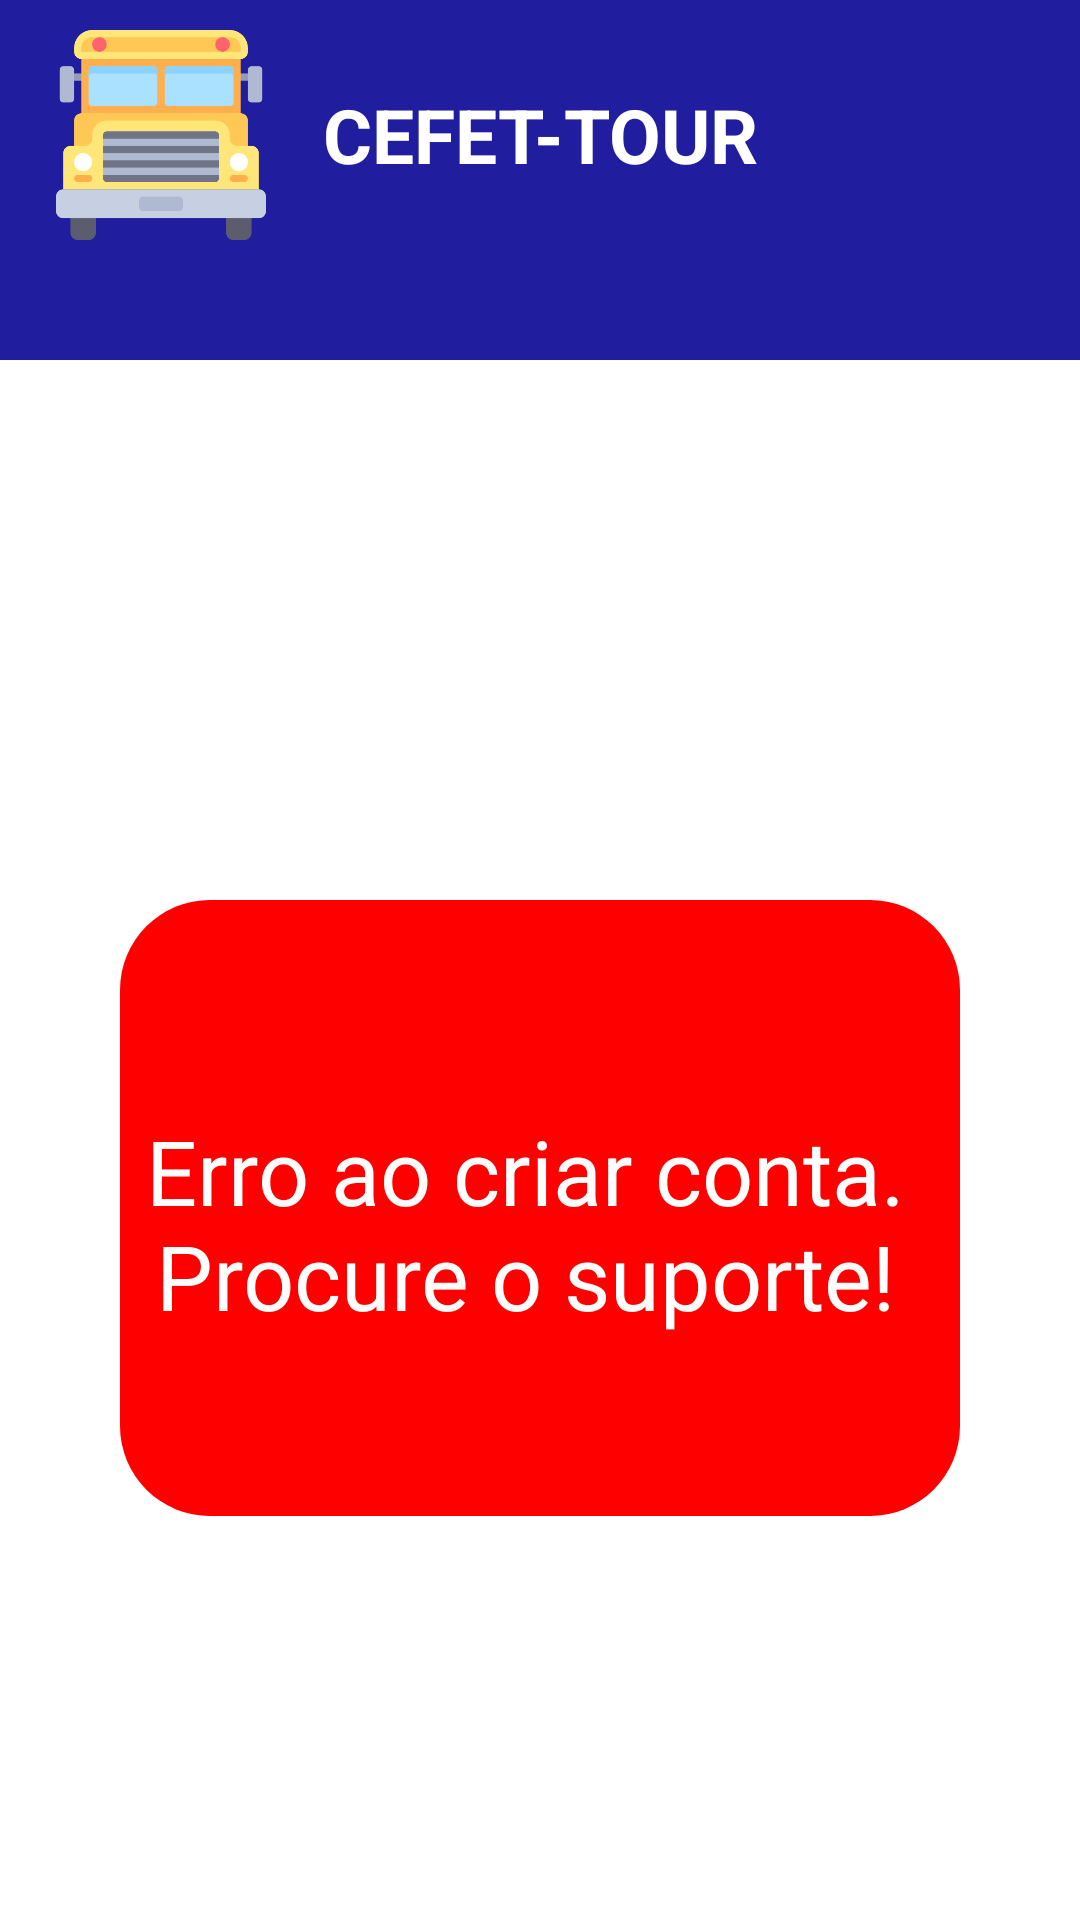

Icons on this 1080×1920 Android screen, each with the point to tap as point (x, y):
schoolbus: point (161, 135)
